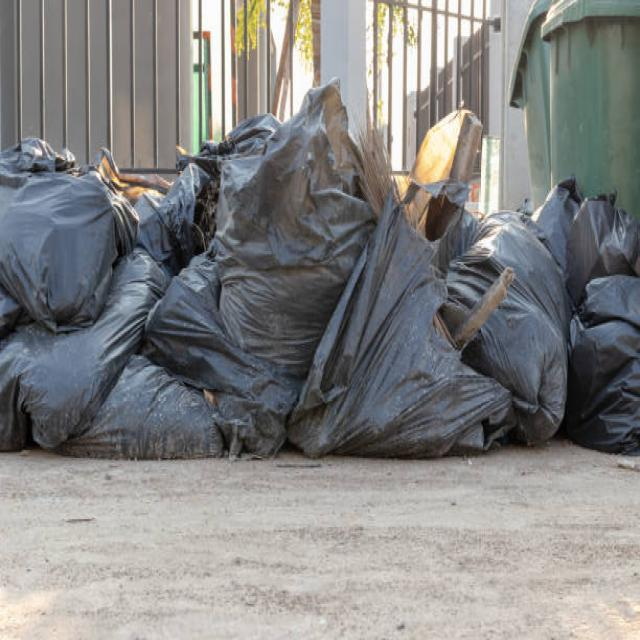garbage: (0, 51, 640, 467)
